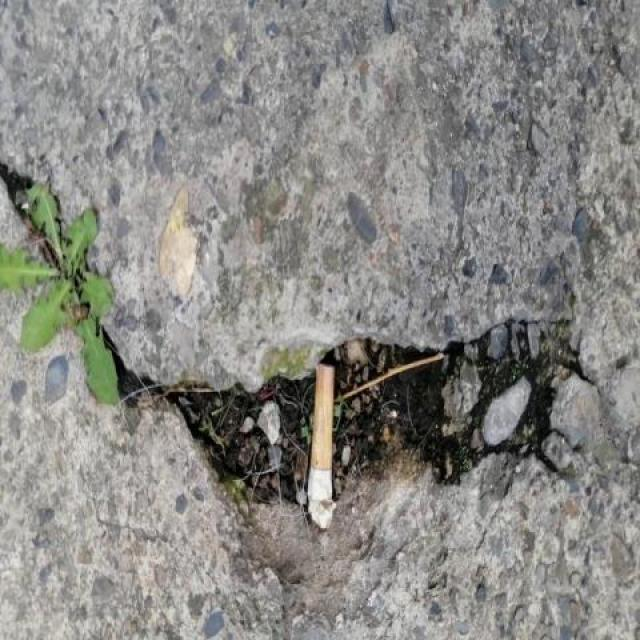non-organic waste: (302, 352, 346, 507)
